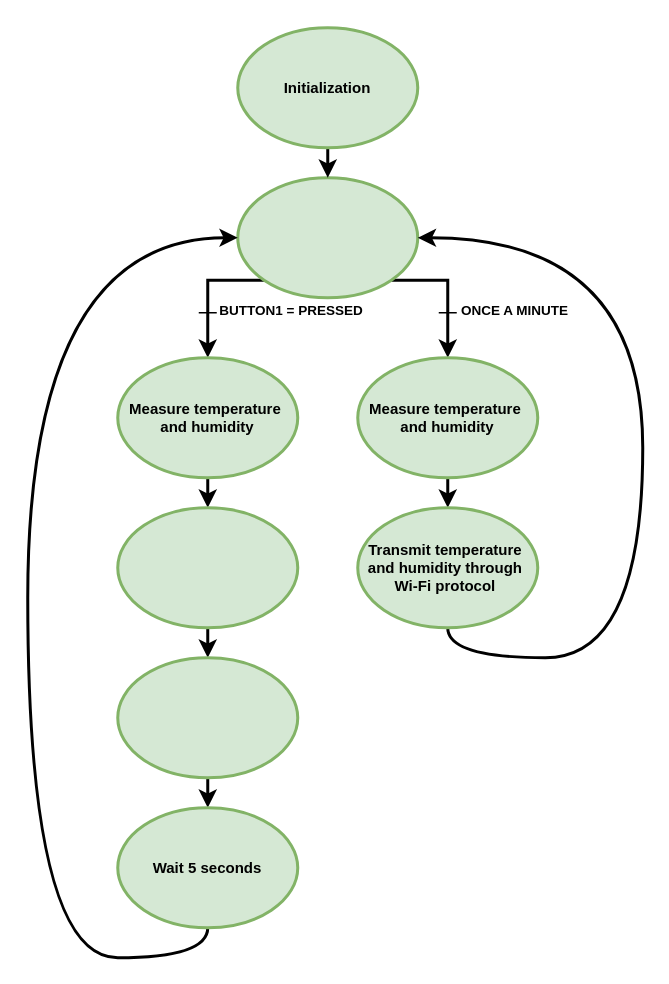
The diagram is 669 pixels wide and 984 high, and some of its shapes have lost their labels. Here are the shapes that lost their labels. From the top down, the centre of each, then its label:
At pixel 327 237: "Power save".
At pixel 207 567: "Turn on display".
At pixel 207 717: "Display temperature, humidity, date and time".
